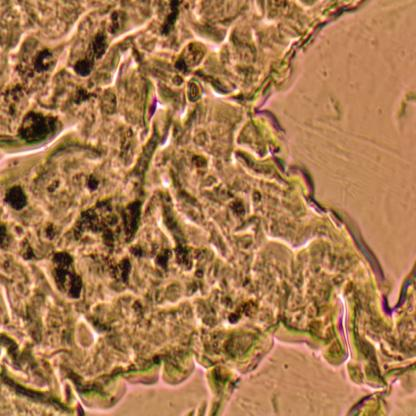Normal: (0, 0, 279, 416)
